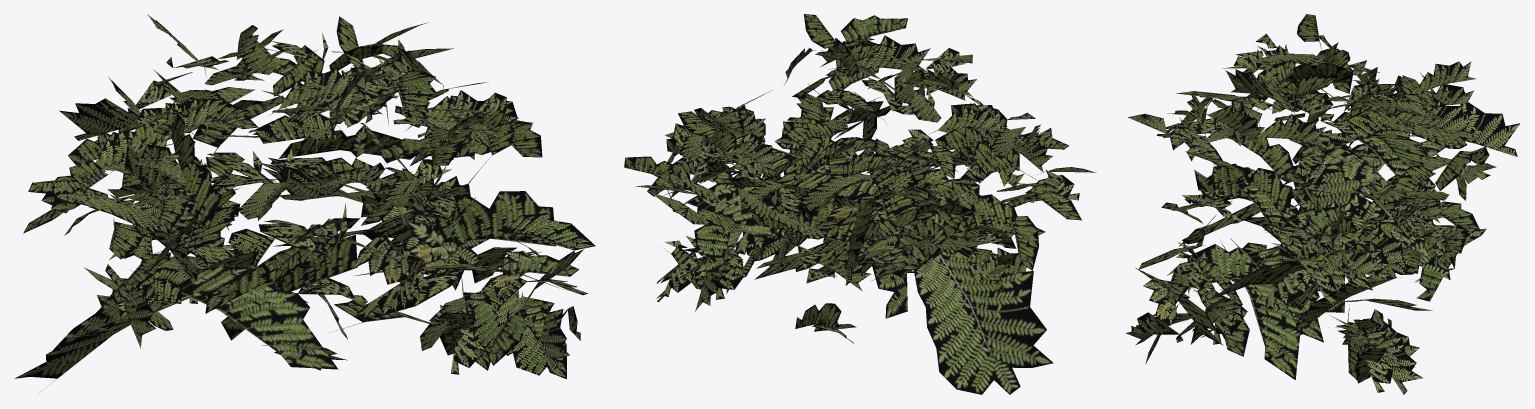
Rendered from jacaranda_L1_hojas.glb.
The picture shows the model from 3 angles, left to right: view 1: azimuth 30°, elevation 25°; view 2: azimuth 150°, elevation 25°; view 3: azimuth 270°, elevation 25°; orthographic projection. The views are drawn at different scales.
Visible parts, largest first — view 1: jacaranda_tree_LOD0; view 2: jacaranda_tree_LOD0; view 3: jacaranda_tree_LOD0.
Part boxes in pixels (x1,y1,x2,y2): jacaranda_tree_LOD0: [15, 15, 595, 390]; jacaranda_tree_LOD0: [624, 14, 1096, 394]; jacaranda_tree_LOD0: [1126, 14, 1519, 394].
Bounding box in the file's own units: 26.45 × 16.62 × 21.41.
Materials: 1 (1 with a texture image).
